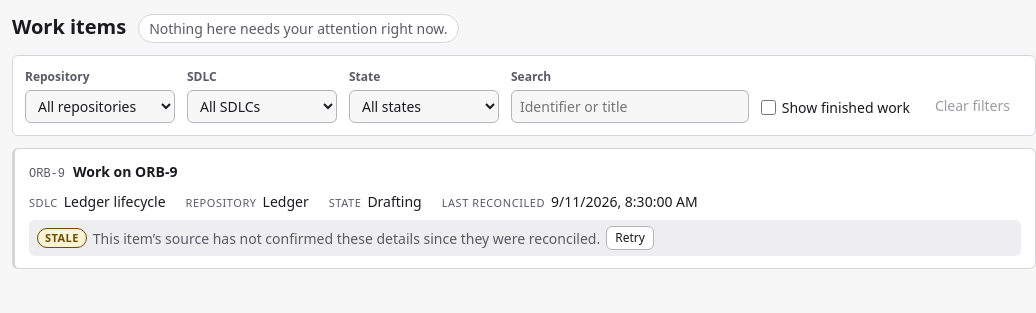
Test: the item list › reports a retry that the provider refused, in place, with the retry still available
Expected: the text "ORB-9" is shown, [29, 165, 65, 183]
Click the button named "retry reconciling ORB-9" at (630, 238), box [606, 226, 654, 250]
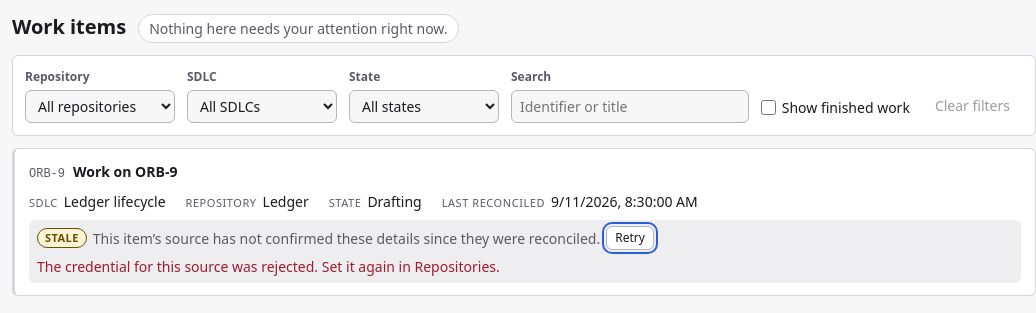
Expected: the text "The credential for this source was rejected. Set it again in Repositories." is shown, [37, 257, 500, 276]
